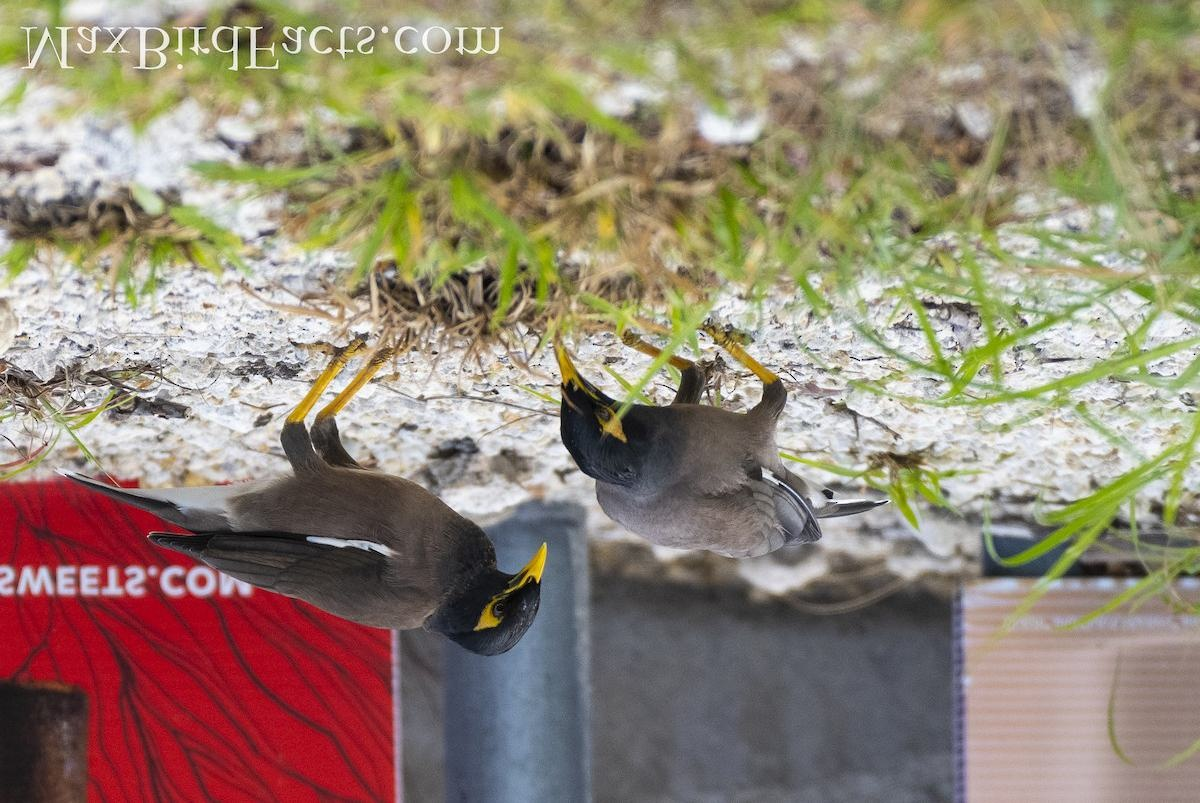myna: (219, 306, 593, 664), (529, 328, 846, 603)
